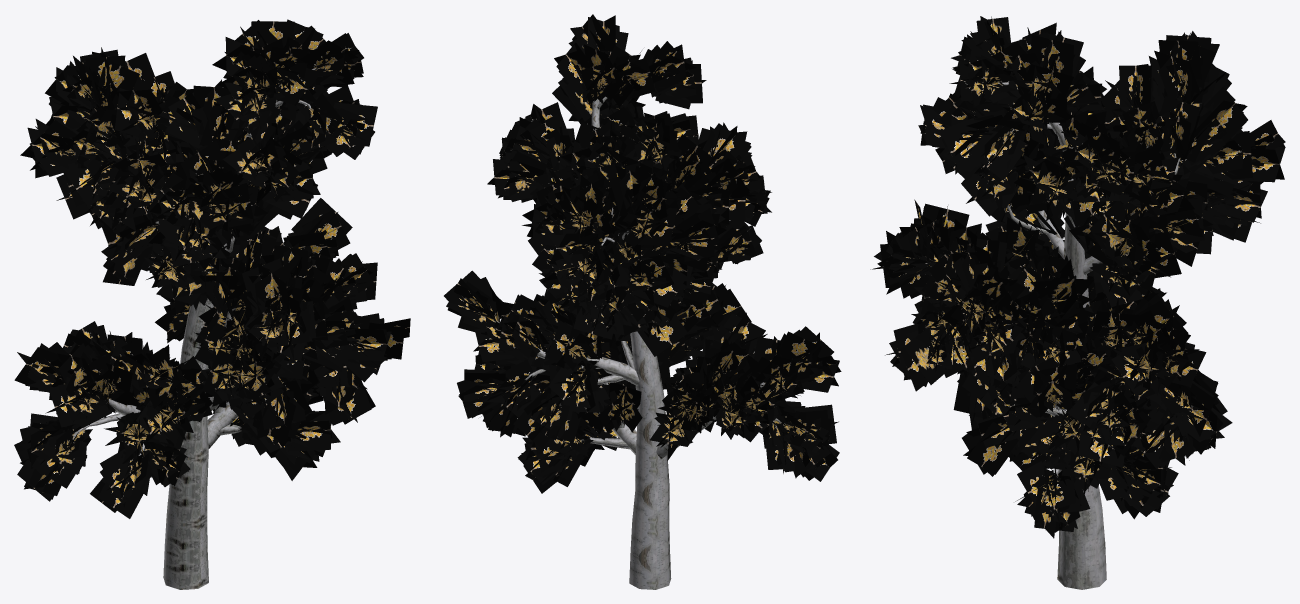
File: eztree-american-beech-stand-a.glb
The picture shows the model from 3 angles, left to right: view 1: azimuth 30°, elevation 25°; view 2: azimuth 150°, elevation 25°; view 3: azimuth 270°, elevation 25°; orthographic projection. The views are drawn at different scales.
Parts seen in each view (by area): view 1: eztree-american-beech-stand-a; view 2: eztree-american-beech-stand-a; view 3: eztree-american-beech-stand-a.
Part boxes in pixels (x1,y1,x2,y2): eztree-american-beech-stand-a: [14, 19, 410, 589]; eztree-american-beech-stand-a: [444, 14, 841, 589]; eztree-american-beech-stand-a: [870, 16, 1285, 589].
Size of the model in its own units: 46.01 by 64.93 by 42.02.
2 materials, 2 textured.
